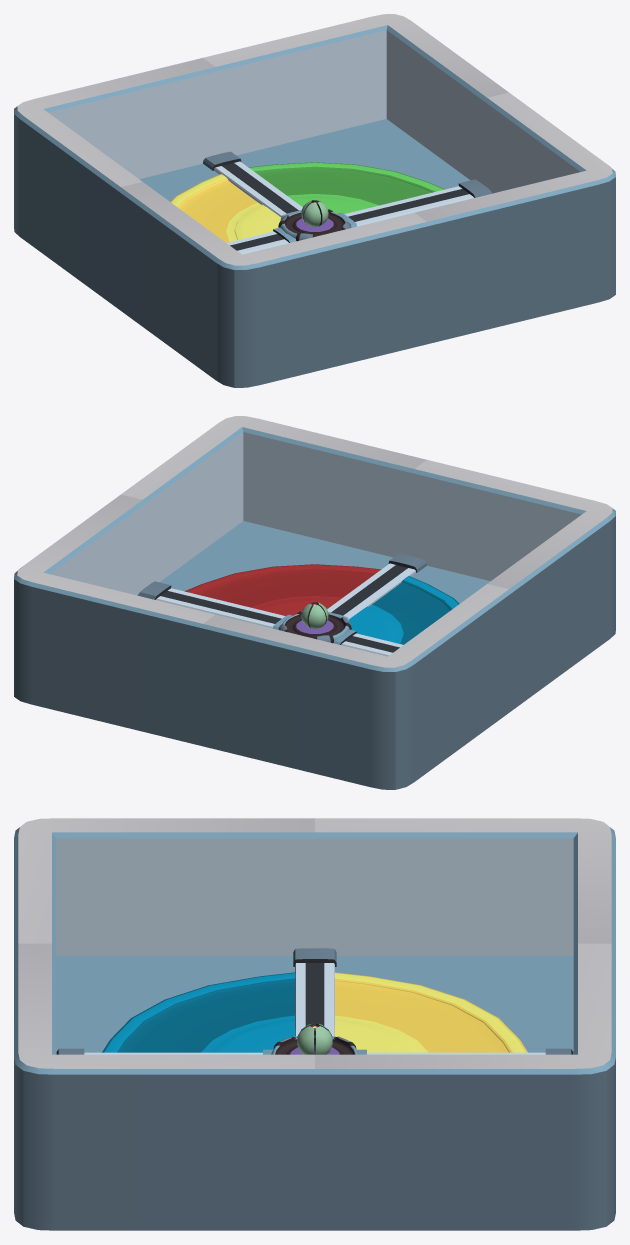
The model's file is Scene_4_players.fbx.
3 views of the same model, one above another, from view 1: azimuth 30°, elevation 25°; view 2: azimuth 150°, elevation 25°; view 3: azimuth 270°, elevation 25° (orthographic). The views are drawn at different scales.
Parts seen in each view (by area): view 1: Cube_ref5 (×4), polySurface4 (×2), pCube4 (×2), pPlane3 (×3), circle_central, Ball; view 2: Cube_ref5 (×4), polySurface4 (×2), pCube4 (×2), pPlane3 (×3), circle_central, Ball; view 3: Cube_ref5 (×4), pCube4 (×2), polySurface4 (×2), pPlane3 (×3), Ball, circle_central.
Boxes of the visible parts, x1,y1,x2,y2 form: Cube_ref5 (×4): [14, 14, 615, 387]; polySurface4 (×2): [170, 162, 444, 242]; pCube4 (×2): [139, 119, 470, 201]; pPlane3 (×3): [203, 151, 492, 254]; circle_central: [278, 209, 351, 241]; Ball: [301, 200, 328, 226]; Cube_ref5 (×4): [14, 416, 615, 789]; polySurface4 (×2): [185, 564, 459, 644]; pCube4 (×2): [159, 521, 490, 603]; pPlane3 (×3): [137, 553, 426, 656]; circle_central: [278, 611, 351, 643]; Ball: [301, 602, 328, 628]; Cube_ref5 (×4): [14, 818, 615, 1230]; pCube4 (×2): [56, 956, 573, 1054]; polySurface4 (×2): [102, 972, 527, 1052]; pPlane3 (×3): [56, 948, 573, 1054]; Ball: [297, 1023, 332, 1054]; circle_central: [271, 1036, 358, 1054].
Bounding box in the file's own units: 282 × 82.64 × 282.
